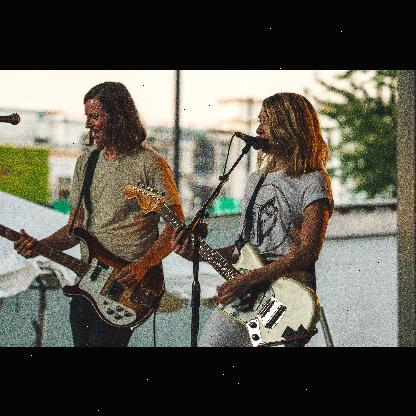bass: (0, 220, 164, 332)
guitar: (124, 180, 320, 346)
